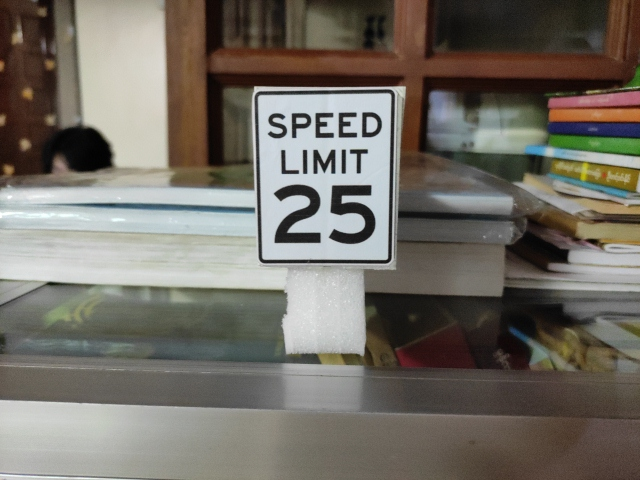Speed Limit 25: (251, 88, 403, 270)
